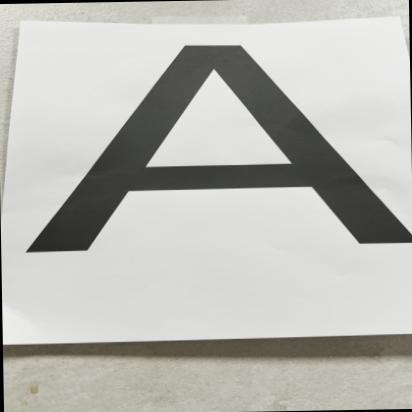seat: (15, 21, 412, 335)
